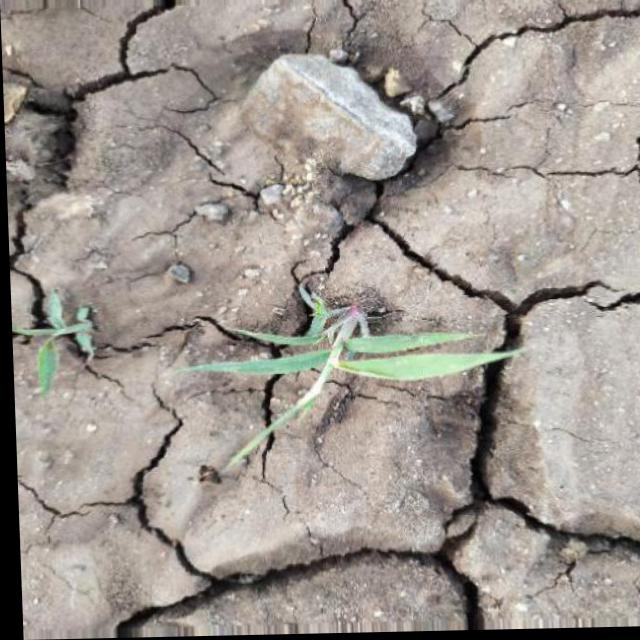weed: (167, 280, 514, 491)
